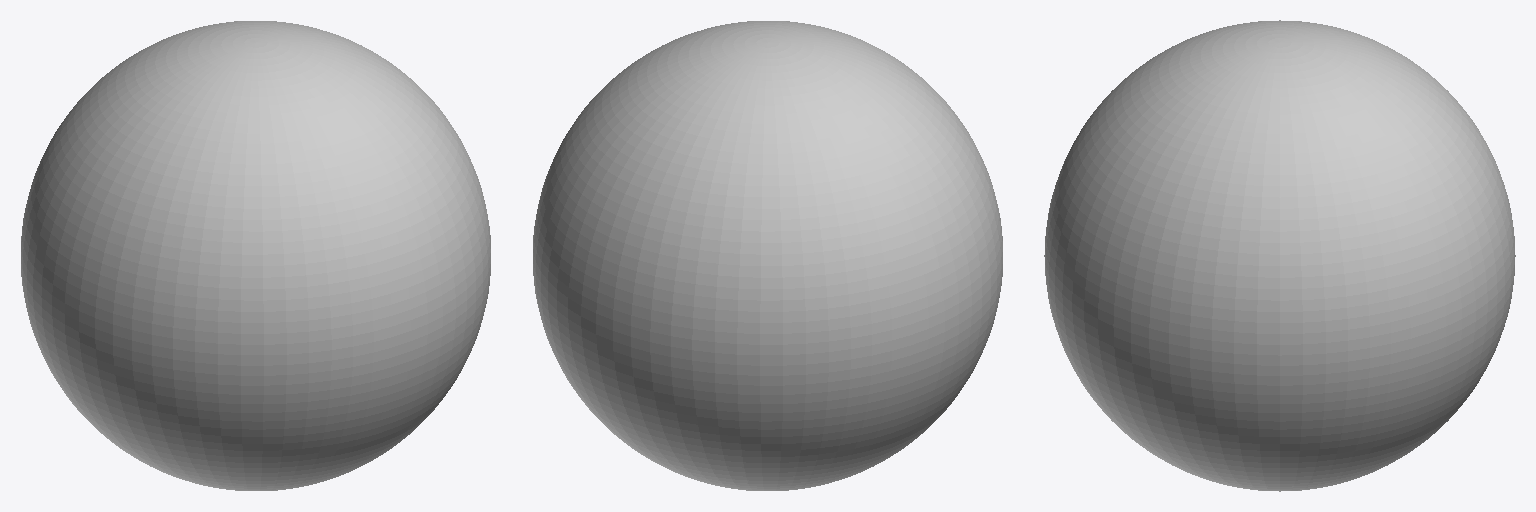
The model's file is space.obj.
The picture shows the model from 3 angles: view 1: azimuth 30°, elevation 25°; view 2: azimuth 150°, elevation 25°; view 3: azimuth 270°, elevation 25°; orthographic projection.
Parts seen in each view (by area): view 1: Sphere; view 2: Sphere; view 3: Sphere.
Boxes of the visible parts, <box> form: Sphere: <box>21,21,490,490</box>; Sphere: <box>533,21,1002,490</box>; Sphere: <box>1044,20,1515,491</box>.
Bounding box in the file's own units: 96.71 × 96.71 × 96.71.